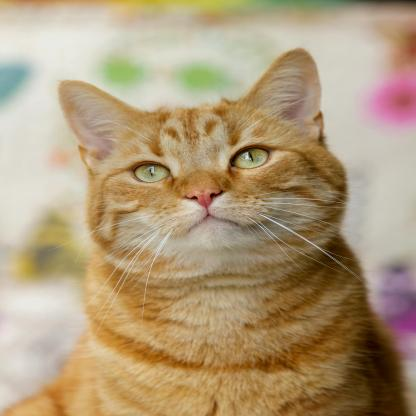cat: (0, 43, 410, 416)
